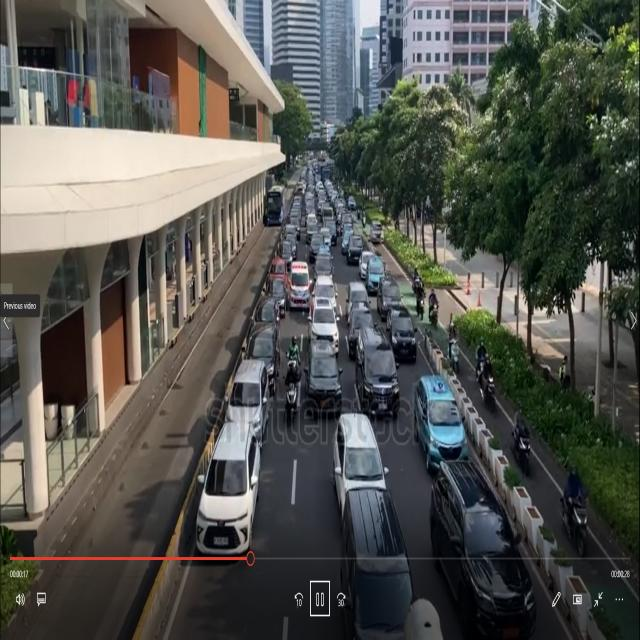Ambulance: (282, 254, 314, 314)
